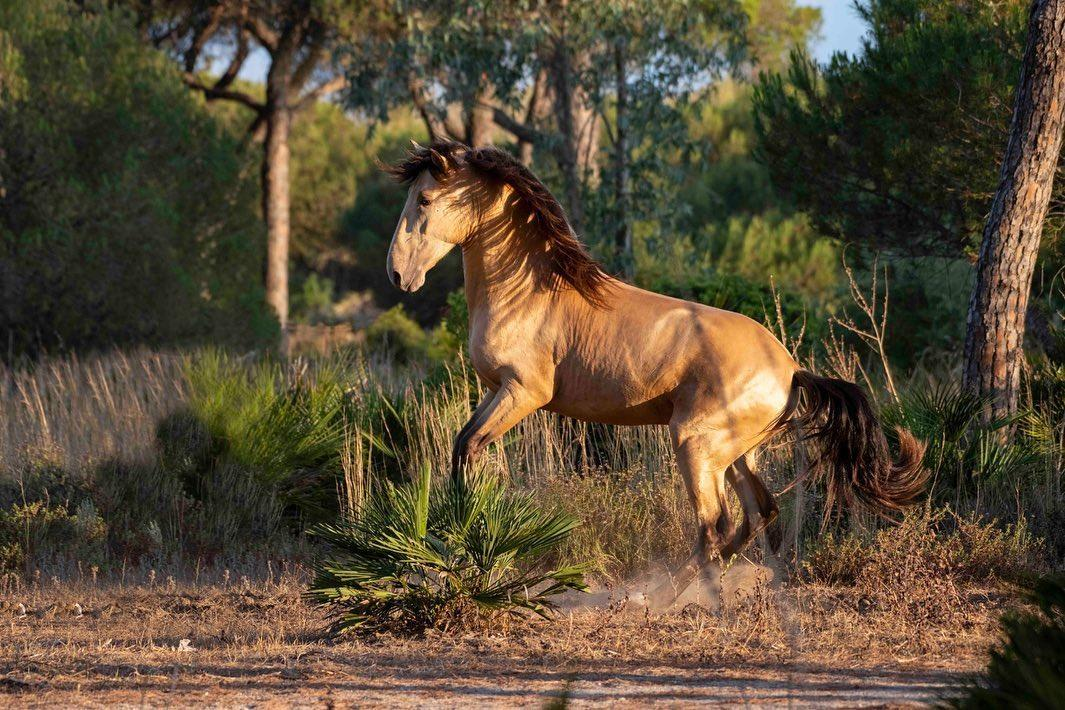horse: (376, 135, 932, 617)
